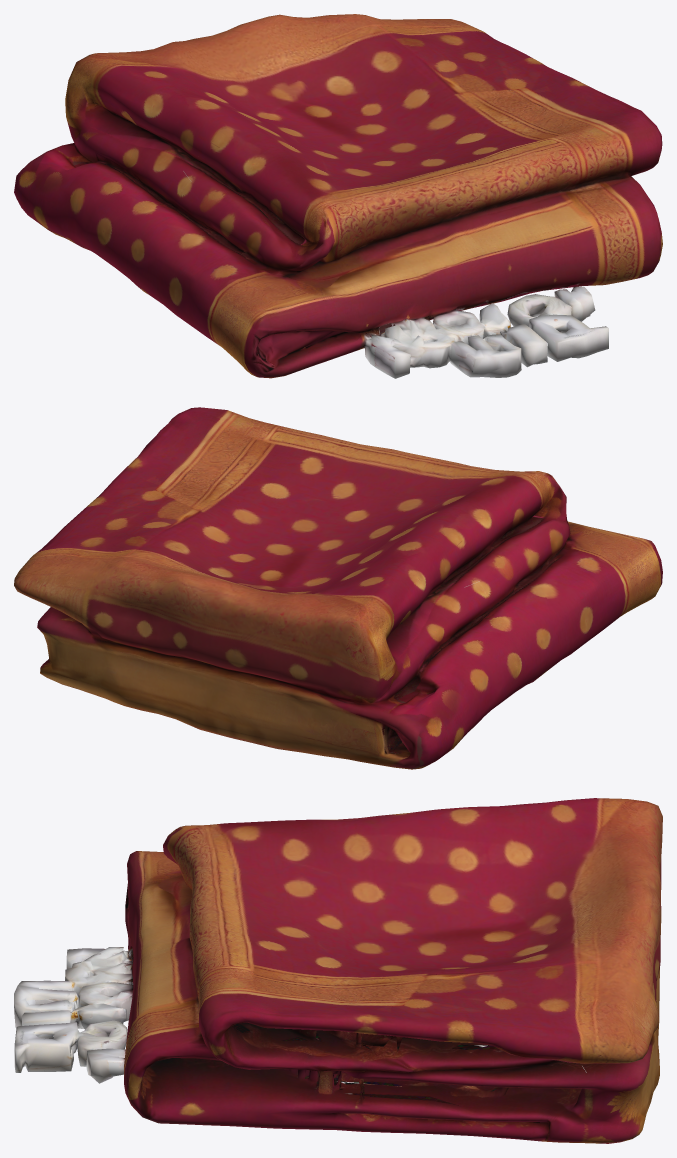
The model's file is mysoreSilk.glb.
3 views of the same model, one above another, from view 1: azimuth 30°, elevation 25°; view 2: azimuth 150°, elevation 25°; view 3: azimuth 270°, elevation 25° (orthographic). The views are drawn at different scales.
Bounding box in the file's own units: 1.75 × 0.6098 × 2.
Materials: 1 (1 with a texture image).
